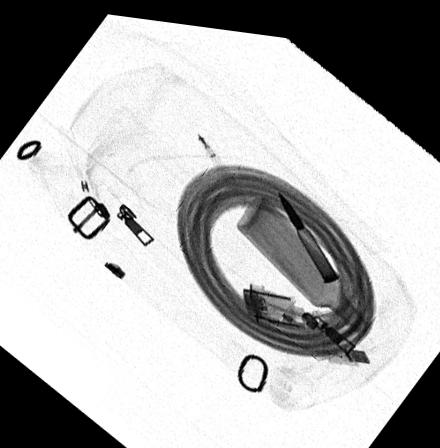Bullet: (276, 182, 339, 273)
